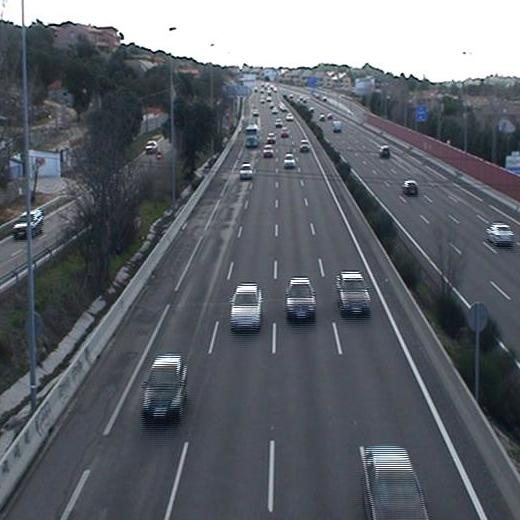car: (139, 355, 189, 422), (331, 269, 373, 318), (228, 283, 265, 334), (284, 277, 318, 324), (237, 163, 253, 180), (281, 153, 297, 169), (262, 143, 275, 156), (299, 138, 311, 152)
tank-truck: (244, 125, 260, 149)
